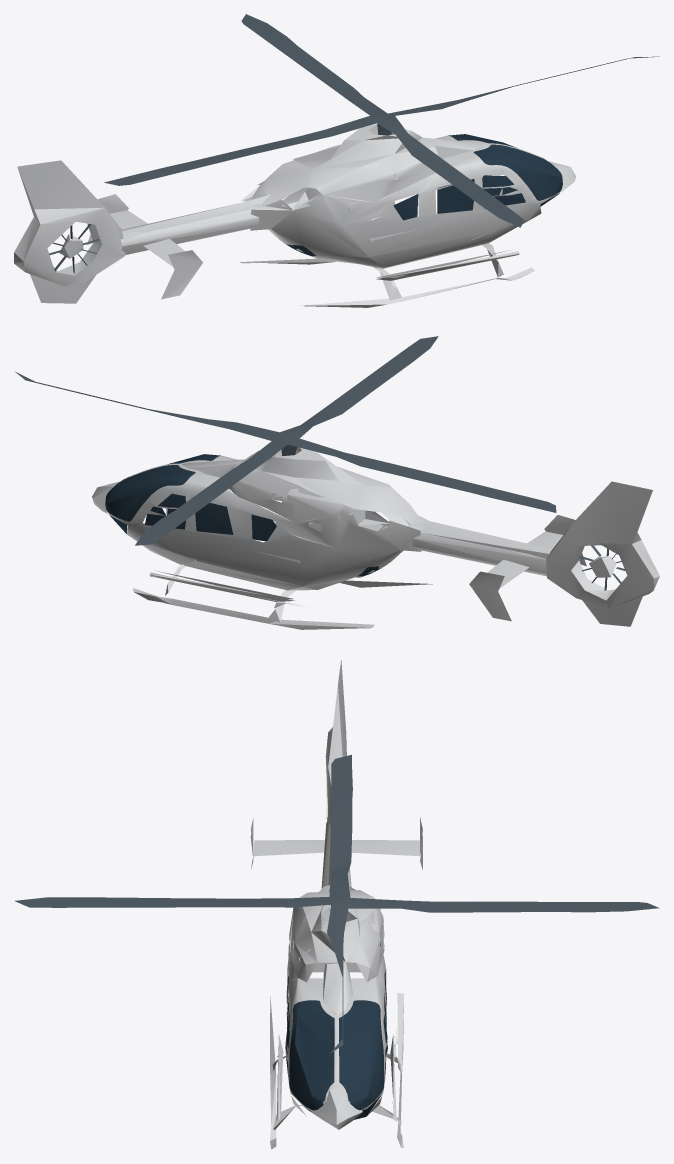
3 views of the same model, one above another, from view 1: azimuth 30°, elevation 25°; view 2: azimuth 150°, elevation 25°; view 3: azimuth 270°, elevation 25° (orthographic). The views are drawn at different scales.
Visible parts, largest first — view 1: hull, rotor, glass; view 2: hull, rotor, glass, engine; view 3: hull, rotor, glass.
Boxes of the visible parts, <box> form: hull: <box>14,124,575,307</box>; rotor: <box>104,14,659,227</box>; glass: <box>286,134,562,256</box>; hull: <box>92,447,659,629</box>; rotor: <box>15,336,556,545</box>; glass: <box>105,454,381,577</box>; engine: <box>348,509,390,526</box>; hull: <box>250,660,422,1149</box>; rotor: <box>15,754,659,1053</box>; glass: <box>285,970,387,1119</box>.
Bounding box in the file's own units: 14.1 × 4.32 × 10.99.
